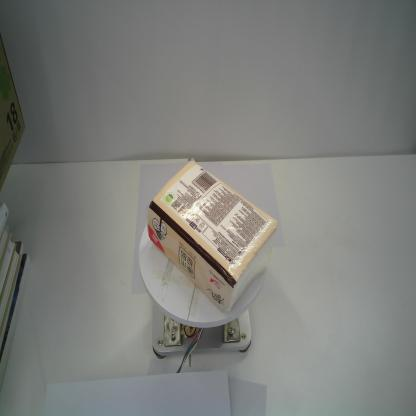Tissue: (145, 159, 281, 315)
